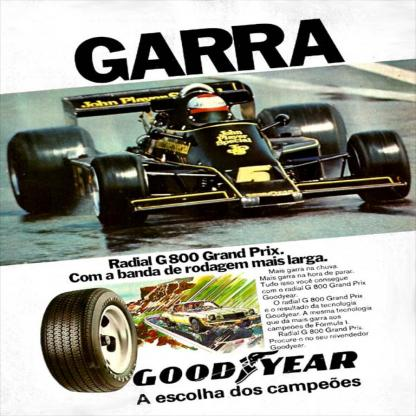Car: (8, 80, 412, 229), (162, 302, 261, 335)
